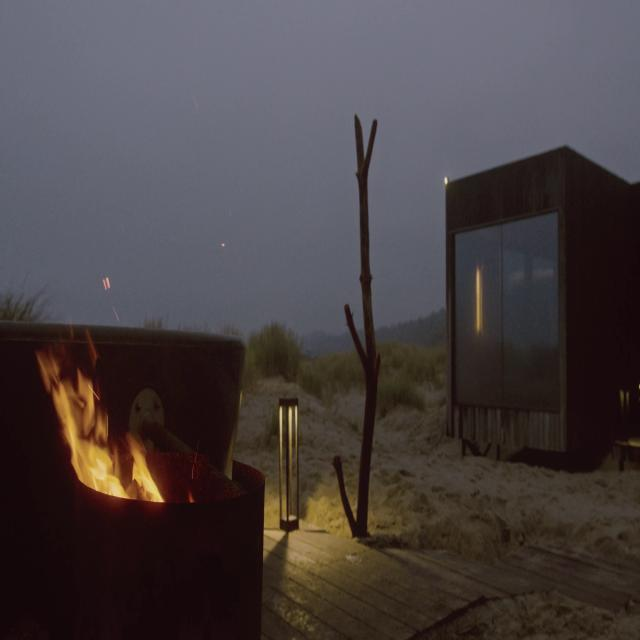Fire: (46, 342, 160, 506)
